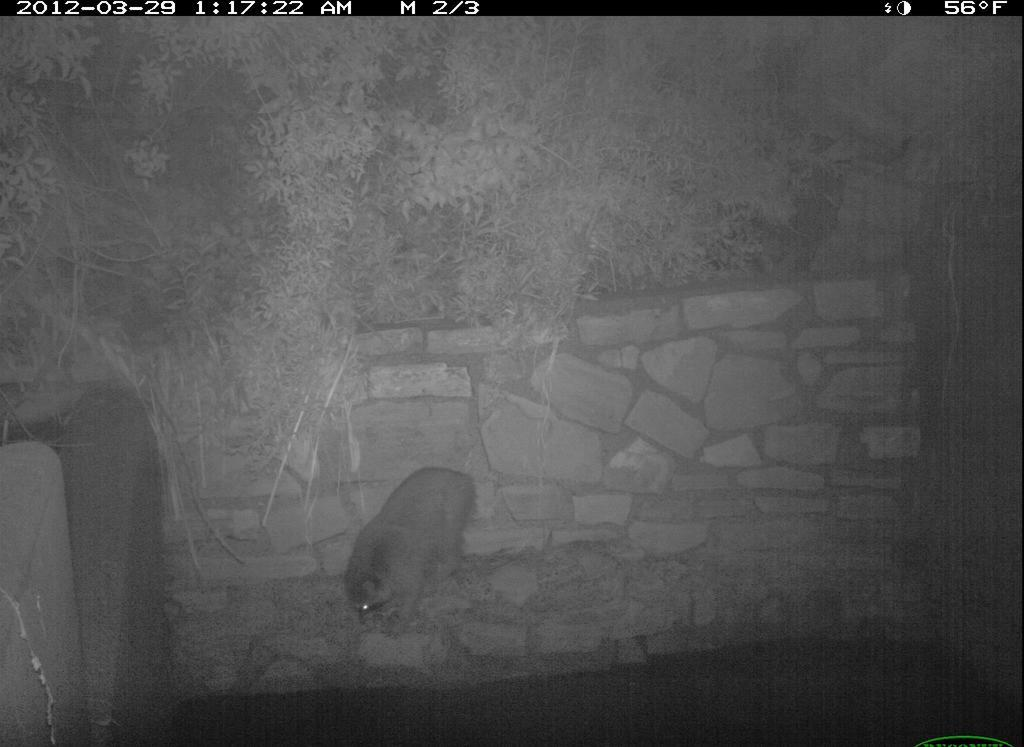raccoon: (328, 459, 477, 629)
